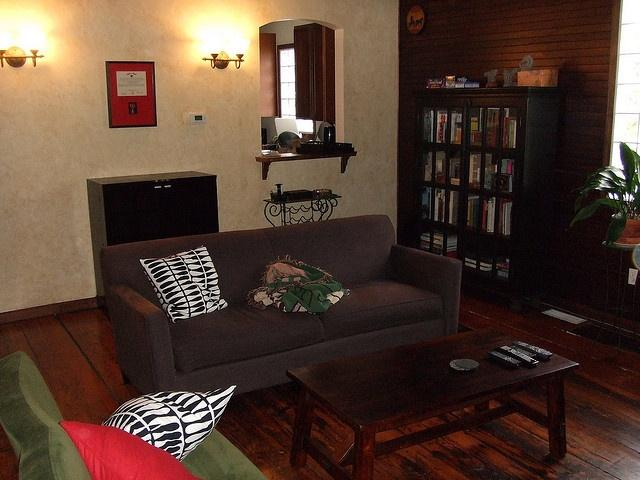Meja: (282, 323, 579, 479)
Rak: (408, 85, 566, 305)
